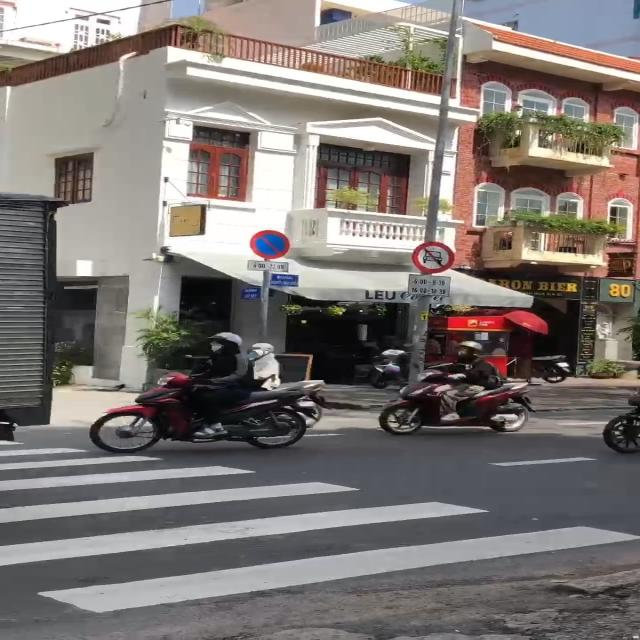Bien bao cam do xe: (246, 228, 293, 260)
Bien bao cam xe oto: (408, 240, 461, 277)
